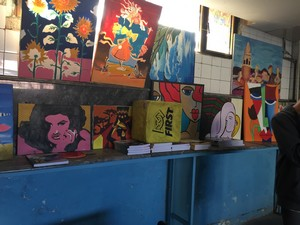cube: (130, 98, 182, 145)
